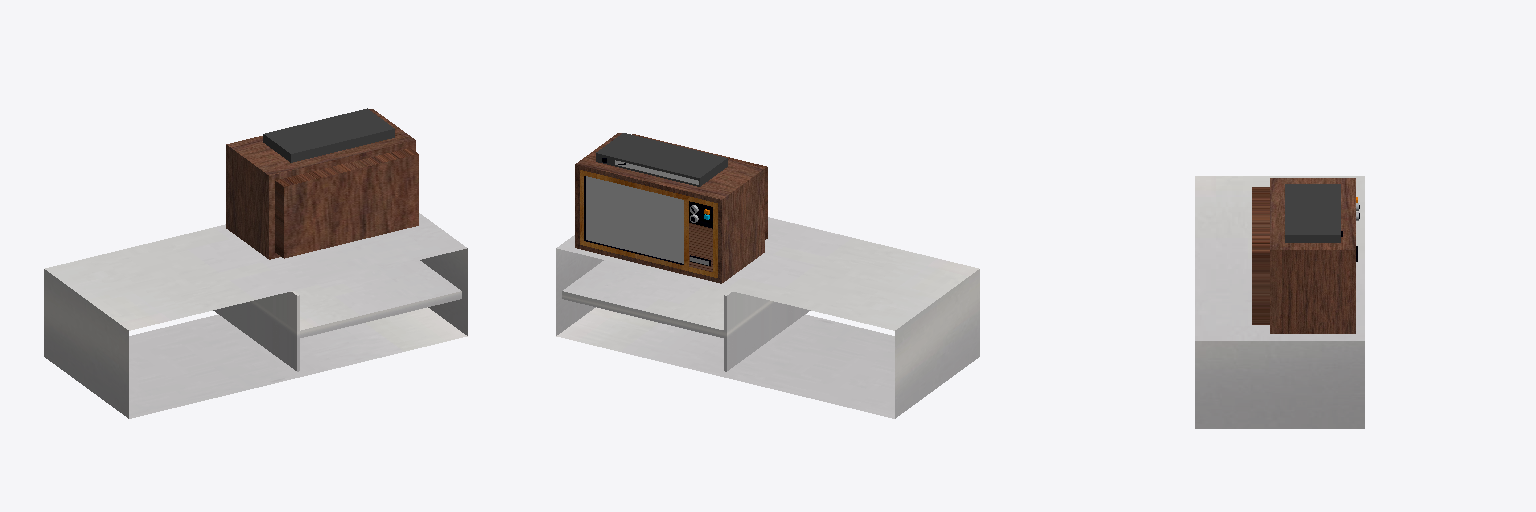
3 renders of one model, left to right at view 1: azimuth 30°, elevation 25°; view 2: azimuth 150°, elevation 25°; view 3: azimuth 270°, elevation 25°, orthographic.
Parts seen in each view (by area): view 1: Tele; view 2: Tele; view 3: Tele.
Part boxes in pixels (x1,y1,x2,y2): Tele: (44, 108, 467, 418); Tele: (556, 133, 979, 418); Tele: (1195, 176, 1364, 428).
Bounding box in the file's own units: 6.92 × 3.54 × 3.01.
12 materials, 10 textured.